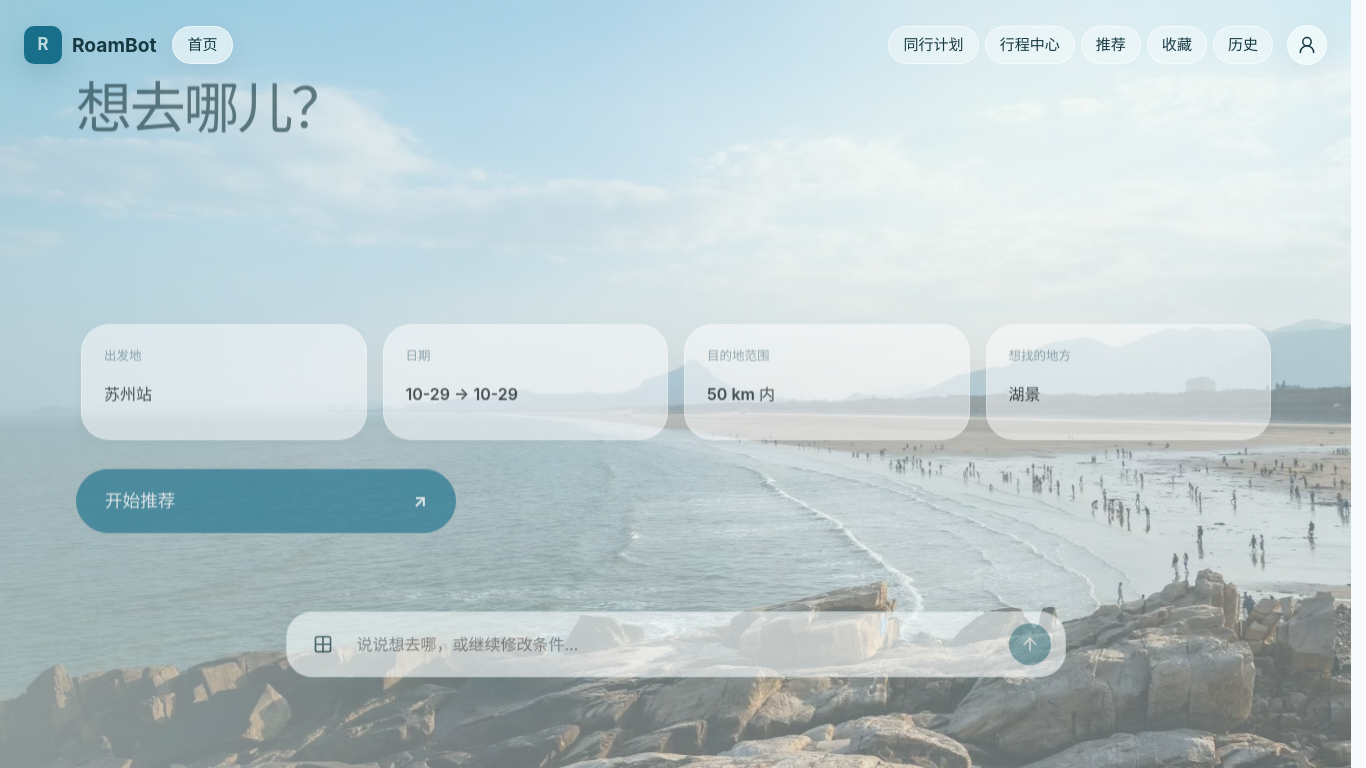
progressive SearchWorkspace business regression › queries only by explicit button and renders real results
Click the button "开始推荐 ↗". click: (140, 555)
box: [76,523,456,587]
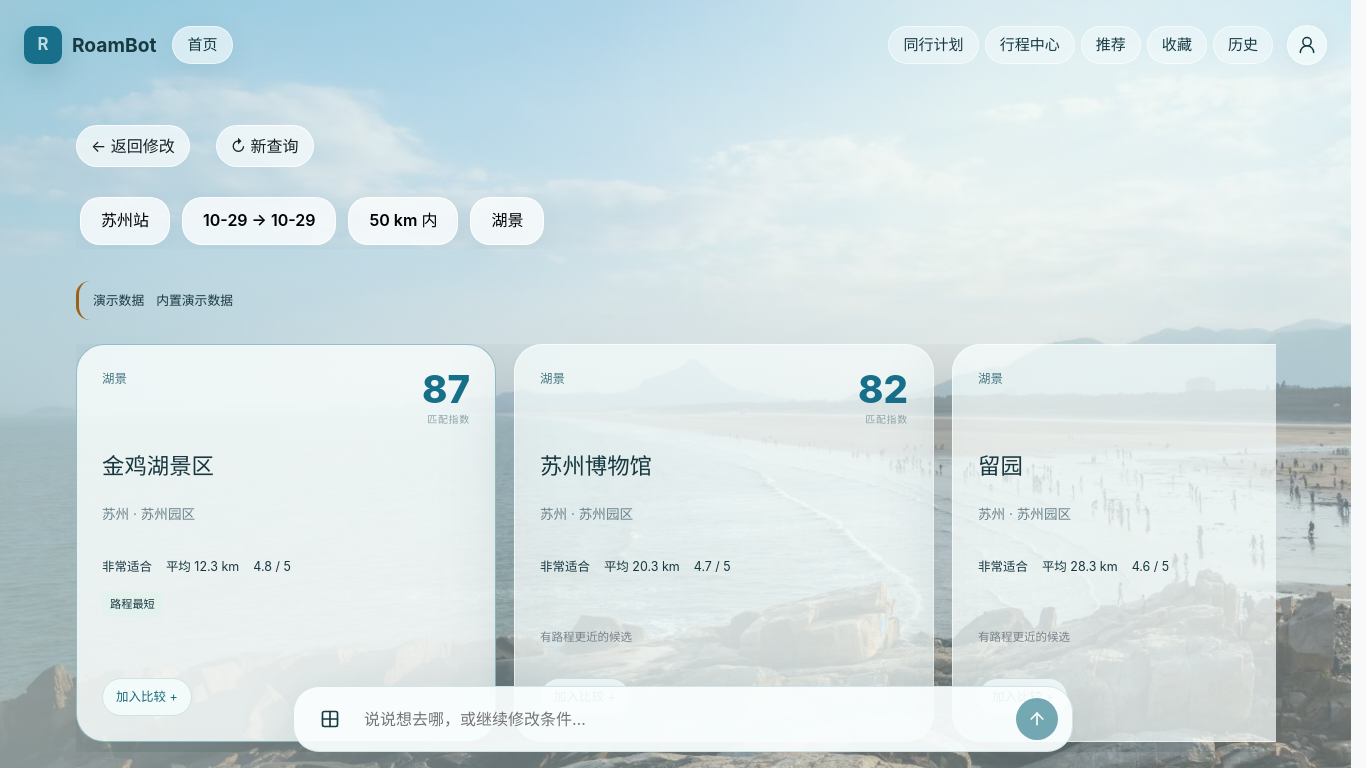
Result: the heading "金鸡湖景区" is shown at [102,452,214,478]
Result: the text "演示数据" is shown at [92,291,144,310]
